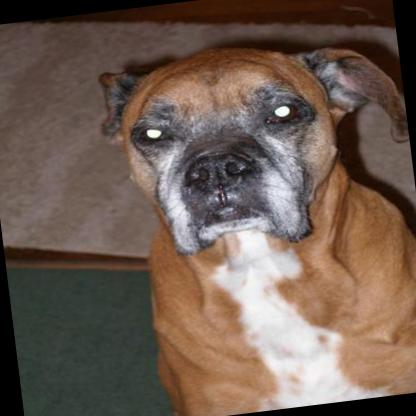boxer: (85, 21, 416, 416)
